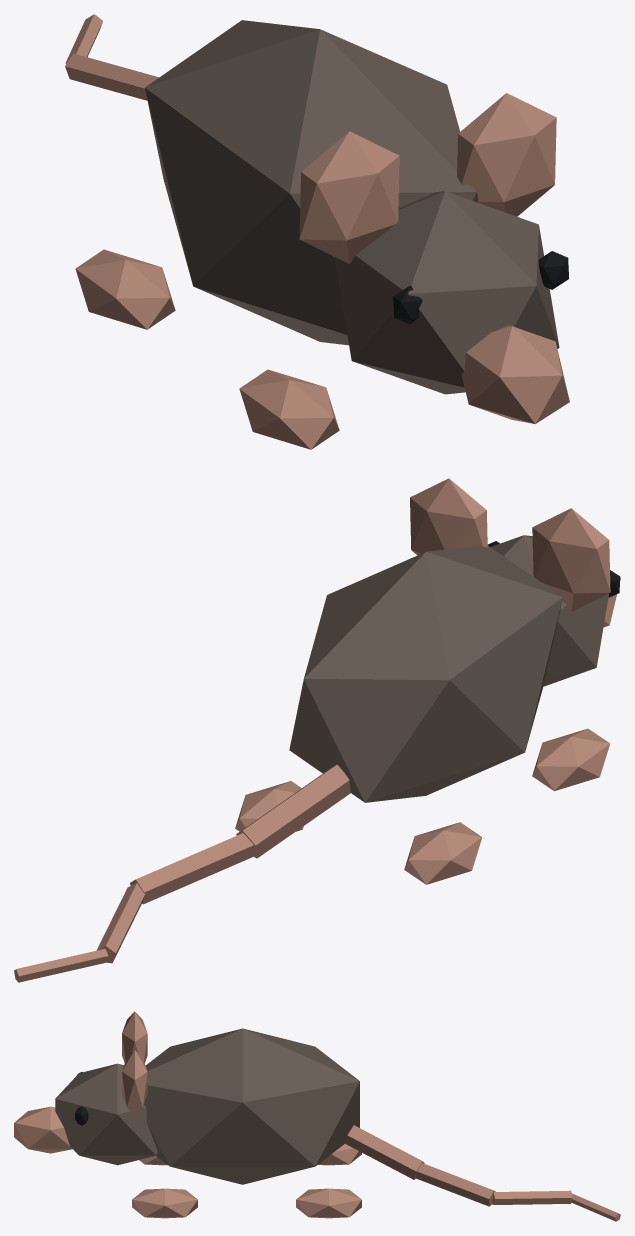
File: patkany.glb
3 renders of one model, top to bottom at view 1: azimuth 30°, elevation 25°; view 2: azimuth 150°, elevation 25°; view 3: azimuth 270°, elevation 25°, orthographic. The views are drawn at different scales.
Parts seen in each view (by area): view 1: rat body, rat head, round ear, round ear.001, pointed muzzle, rat paw.001, rat paw, tapered tail.002, beady eye.001, tapered tail.003, beady eye; view 2: rat body, round ear, rat head, round ear.001, tapered tail, rat paw.001, rat paw, tapered tail.001, tapered tail.002, rat paw.003, tapered tail.003; view 3: rat body, rat head, pointed muzzle, tapered tail, rat paw.002, rat paw.003, tapered tail.001, round ear.001, tapered tail.002, round ear, rat paw.001, tapered tail.003.
Boxes of the visible parts, left/top/right/bottom form: rat body: left=145, top=20, right=478, bottom=345; rat head: left=334, top=191, right=559, bottom=394; round ear: left=299, top=131, right=399, bottom=263; round ear.001: left=457, top=93, right=556, bottom=216; pointed muzzle: left=461, top=325, right=569, bottom=423; rat paw.001: left=75, top=249, right=175, bottom=329; rat paw: left=239, top=369, right=339, bottom=449; tapered tail.002: left=65, top=53, right=158, bottom=100; beady eye.001: left=538, top=251, right=568, bottom=289; tapered tail.003: left=65, top=14, right=102, bottom=63; beady eye: left=393, top=285, right=422, bottom=324; rat body: left=289, top=545, right=562, bottom=802; round ear: left=532, top=508, right=610, bottom=611; rat head: left=491, top=535, right=612, bottom=686; round ear.001: left=410, top=478, right=487, bottom=555; tapered tail: left=236, top=764, right=350, bottom=858; rat paw.001: left=404, top=822, right=482, bottom=884; rat paw: left=532, top=728, right=610, bottom=791; tapered tail.001: left=130, top=833, right=253, bottom=904; tapered tail.002: left=96, top=883, right=145, bottom=963; rat paw.003: left=235, top=781, right=303, bottom=831; tapered tail.003: left=14, top=949, right=108, bottom=982; rat body: left=144, top=1028, right=359, bottom=1184; rat head: left=55, top=1063, right=157, bottom=1165; pointed muzzle: left=14, top=1106, right=72, bottom=1153; tapered tail: left=345, top=1125, right=424, bottom=1179; rat paw.002: left=132, top=1188, right=197, bottom=1218; rat paw.003: left=296, top=1188, right=361, bottom=1218; tapered tail.001: left=416, top=1163, right=495, bottom=1206; round ear.001: left=122, top=1050, right=147, bottom=1115; tapered tail.002: left=492, top=1190, right=572, bottom=1204; round ear: left=122, top=1011, right=147, bottom=1063; rat paw.001: left=318, top=1144, right=361, bottom=1165; tapered tail.003: left=571, top=1193, right=620, bottom=1221.
Size of the model in its own units: 0.4024 by 0.418 by 1.41.
